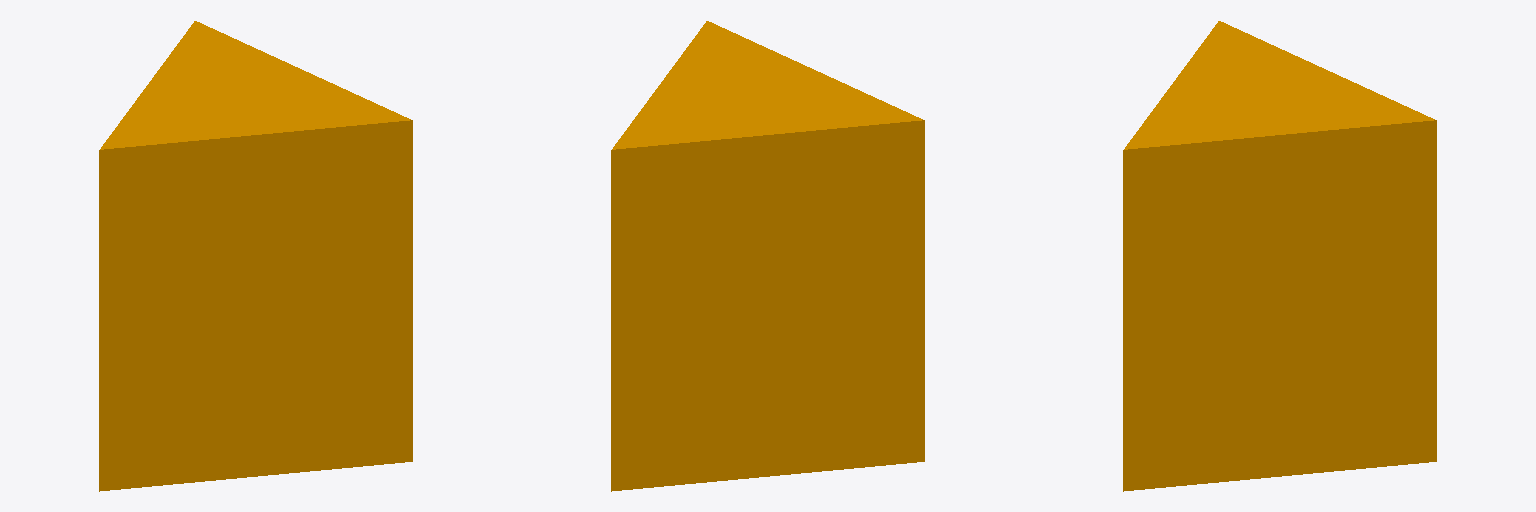
The robot description file, URDF, robot "industreal_round_peg_70mm":
<?xml version="1.0"?>
<robot name="industreal_round_peg_70mm">
    <link name="industreal_round_peg_70mm">
        <visual>
            <geometry>
                <mesh filename="../mesh/industreal_pegs/1_5_in_Triangle_Hard_4.obj"/>
            </geometry>
        </visual>
        <collision>
            <geometry>
                <mesh filename="../mesh/industreal_pegs/1_5_in_Triangle_Hard_4.obj"/>
            </geometry>
            <sdf resolution="256"/>
        </collision>
    </link>
</robot>

--- Facts derived from the render (not from the file) ---
3 views of the same robot in one strip: view 1: azimuth 30°, elevation 25°; view 2: azimuth 150°, elevation 25°; view 3: azimuth 270°, elevation 25° (orthographic).
Model industreal_round_peg_70mm with 1 links and 0 joints (none), rooted at industreal_round_peg_70mm, posed every joint at zero.
Visible links, largest first — view 1: industreal_round_peg_70mm; view 2: industreal_round_peg_70mm; view 3: industreal_round_peg_70mm.
Boxes of the visible links, x1=… form: industreal_round_peg_70mm: x1=99, y1=21, x2=412, y2=491; industreal_round_peg_70mm: x1=611, y1=21, x2=924, y2=491; industreal_round_peg_70mm: x1=1123, y1=21, x2=1436, y2=491.
Size in the robot's own frame: 0.0619 by 0.0633 by 0.0762 metres.
Meshes: 1 distinct files referenced, 1 mesh visuals loaded (1 OBJ).